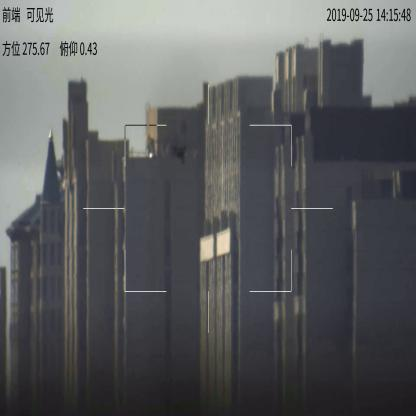uav: (174, 147, 188, 167)
